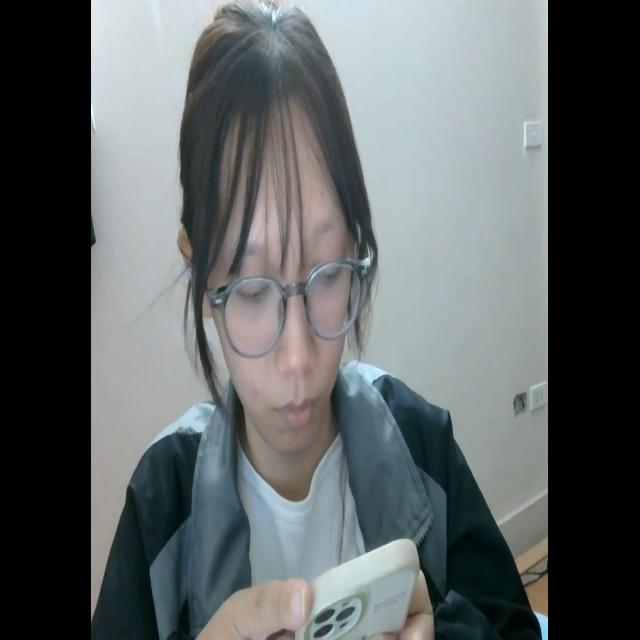phone: (289, 538, 419, 640)
student: (101, 6, 541, 640)
